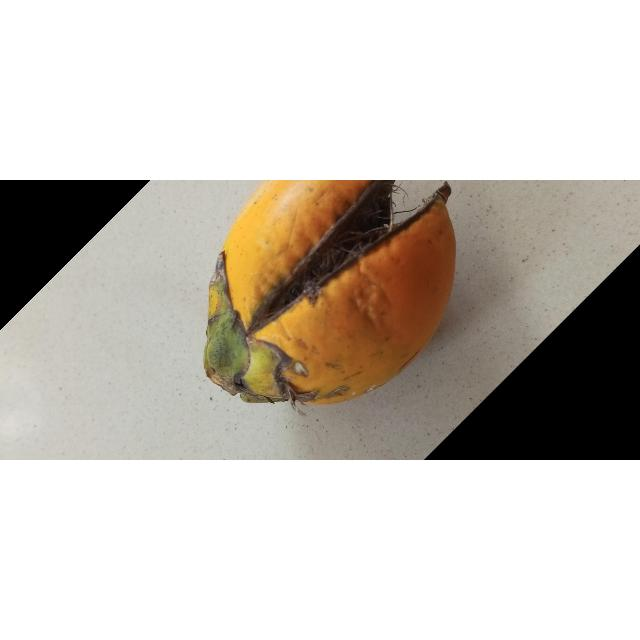damaged: (203, 180, 456, 415)
